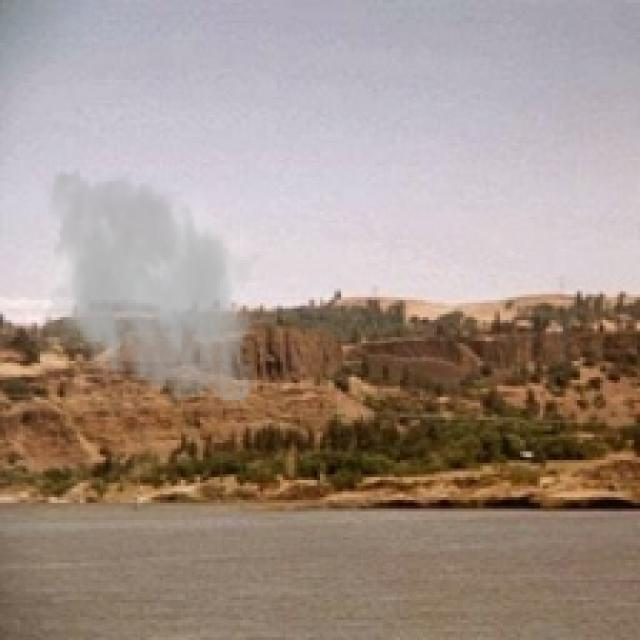Smoke: (25, 160, 272, 414)
